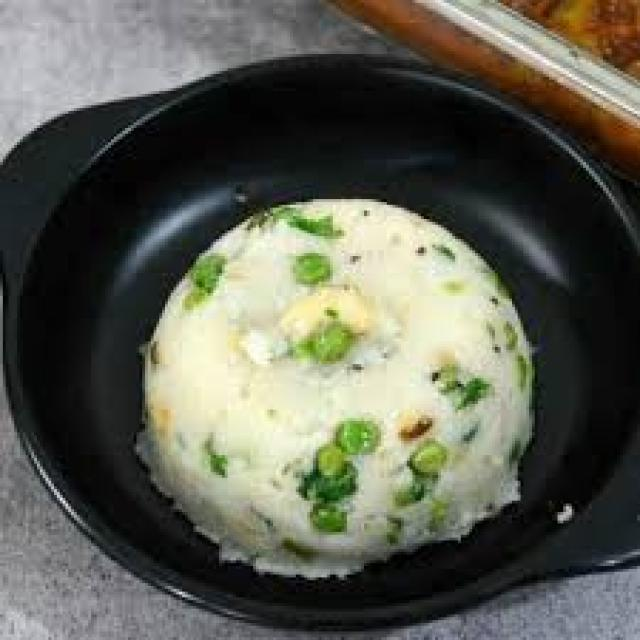Wet Waste: (146, 194, 560, 580)
